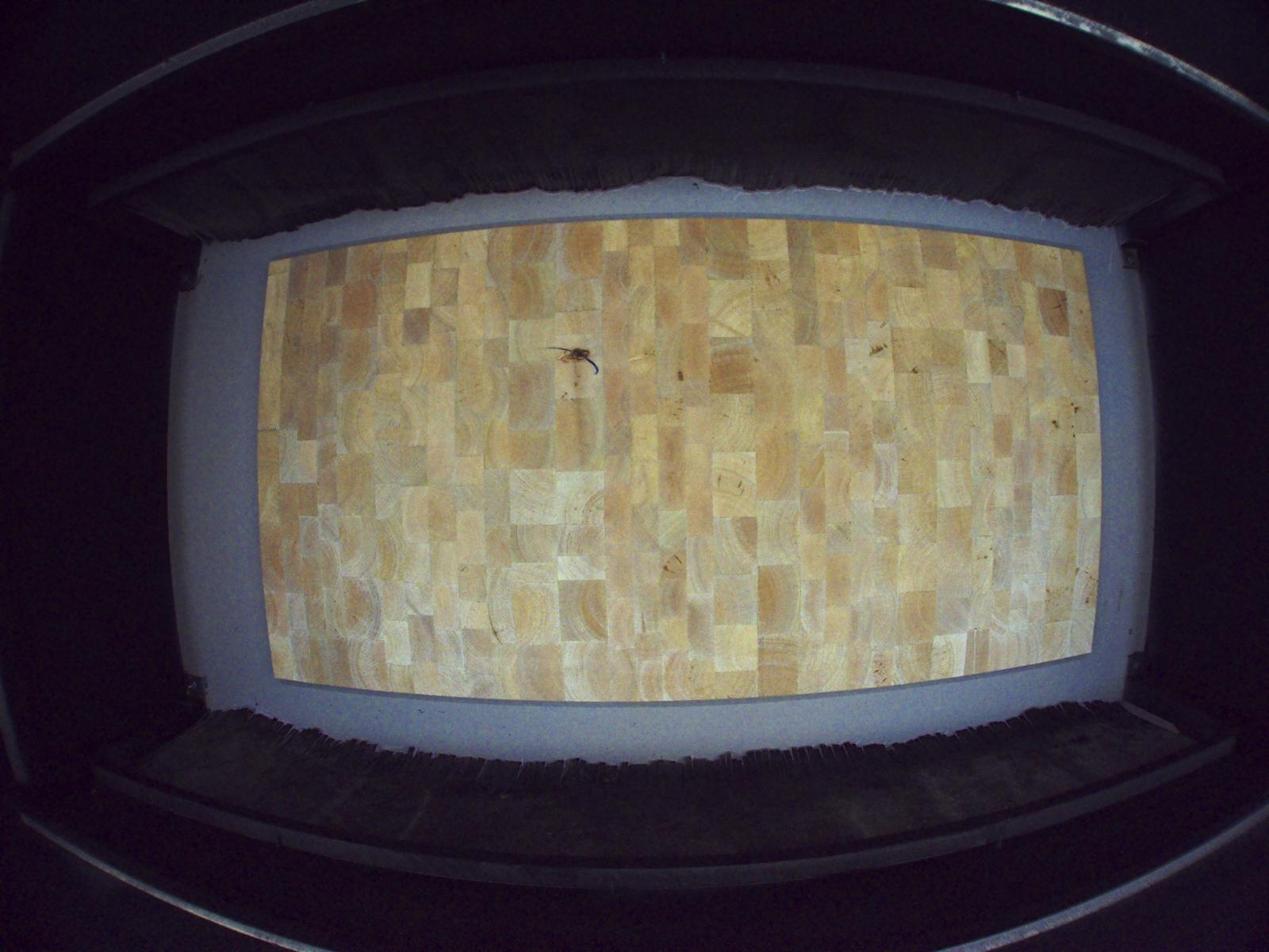nudillo: (556, 346, 597, 366)
